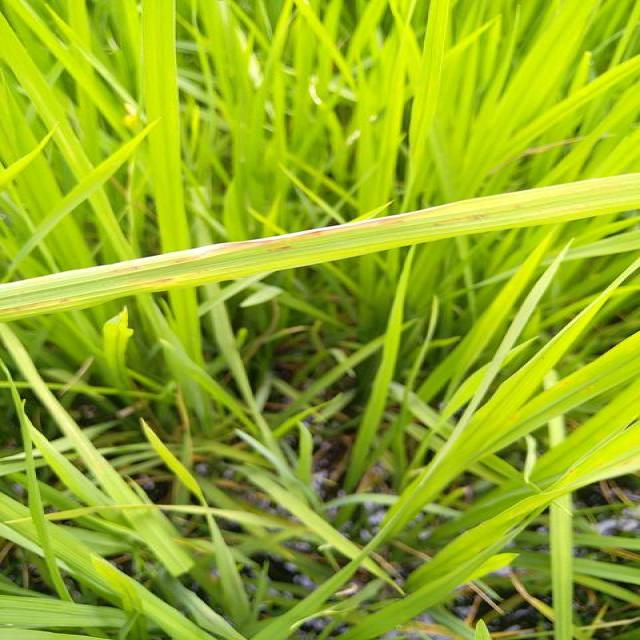Leaf Streak: (0, 171, 639, 323)
